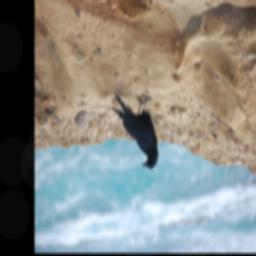Crow: (111, 91, 158, 172)
